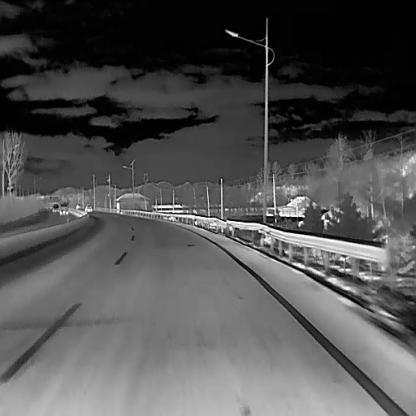car: (59, 200, 68, 214), (84, 202, 93, 214), (51, 201, 59, 213), (75, 202, 81, 211)
